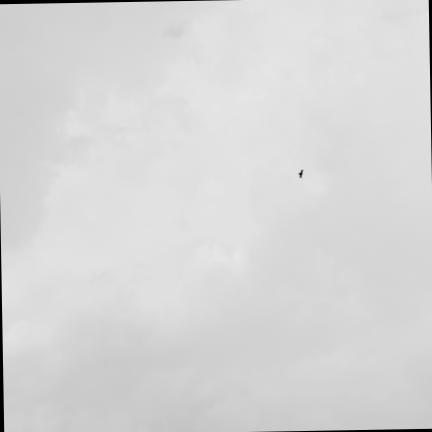Shahed: (297, 169, 304, 178)
